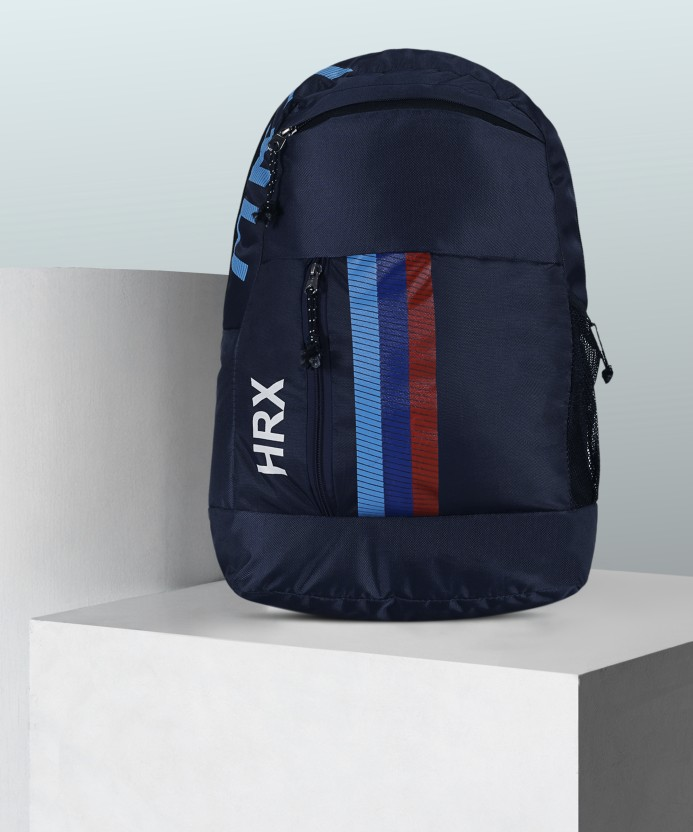backpack: (207, 47, 611, 621)
